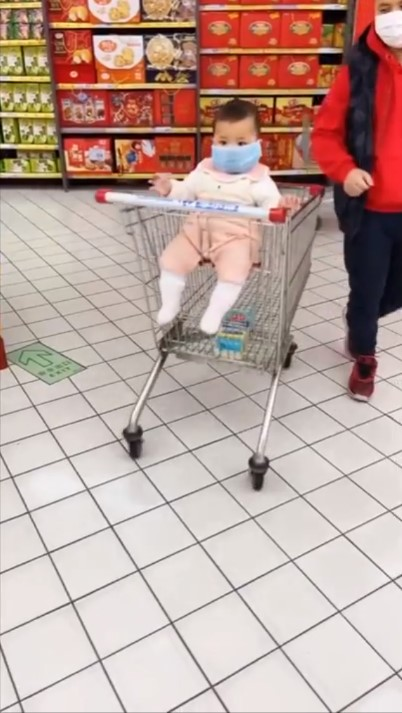face_with_mask: (208, 99, 263, 174), (369, 0, 400, 49)
